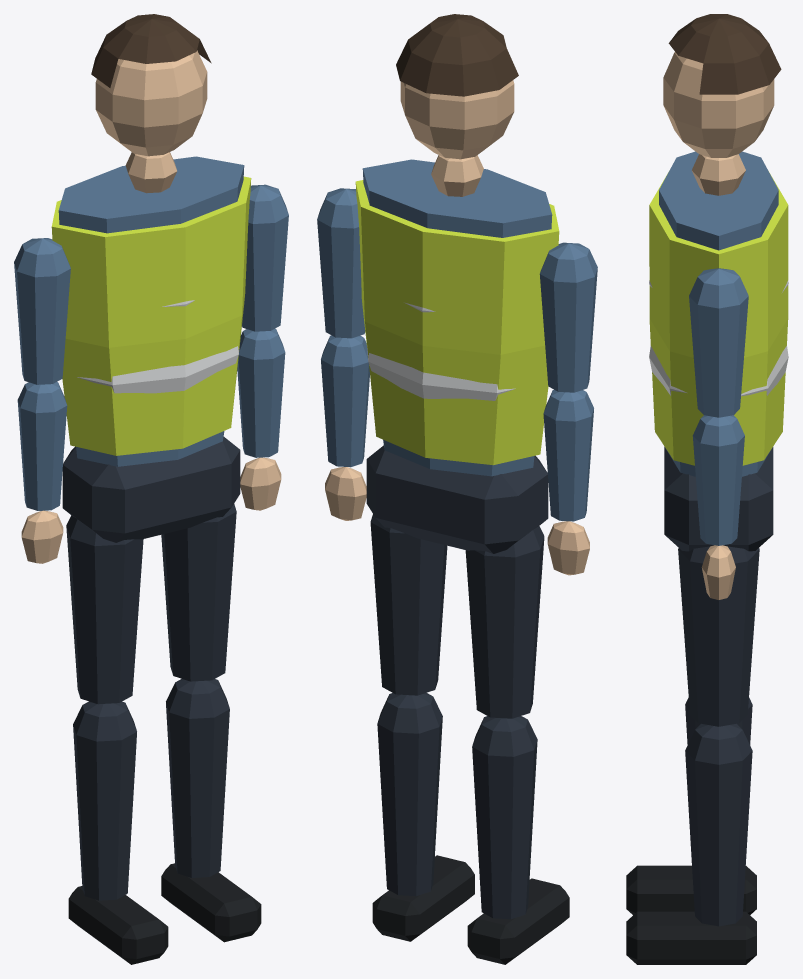
Rendered from person.glb.
The picture shows the model from 3 angles, left to right: view 1: azimuth 30°, elevation 25°; view 2: azimuth 150°, elevation 25°; view 3: azimuth 270°, elevation 25°; orthographic projection. The views are drawn at different scales.
Parts seen in each view (by area): view 1: Vest, Hofter, LarR, LeggL, LeggR, Kropp, LarL, Hode, OverarmR, OverarmL, UnderarmR, UnderarmL (+7 smaller); view 2: Vest, Hofter, LarR, LeggL, LeggR, Kropp, LarL, Har, OverarmR, Hode, OverarmL, UnderarmR (+7 smaller); view 3: Vest, LeggL, LarL, Kropp, OverarmL, Hode, SkoL, Har, UnderarmL, Hofter, SkoR, Hals (+3 smaller).
Boxes of the visible parts, x1,y1,x2,y2 form: Vest: [51, 176, 251, 455]; Hofter: [62, 437, 240, 542]; LarR: [66, 515, 143, 704]; LeggL: [166, 679, 229, 877]; LeggR: [73, 701, 136, 900]; Kropp: [58, 156, 244, 466]; LarL: [161, 503, 236, 681]; Hode: [95, 50, 207, 156]; OverarmR: [14, 238, 70, 384]; OverarmL: [242, 184, 288, 331]; UnderarmR: [17, 382, 67, 510]; UnderarmL: [237, 329, 285, 457]; Vest: [355, 180, 559, 465]; Hofter: [366, 445, 548, 553]; LarR: [465, 526, 544, 718]; LeggL: [377, 693, 442, 896]; LeggR: [472, 716, 537, 919]; Kropp: [362, 159, 552, 476]; LarL: [370, 514, 447, 695]; Har: [396, 14, 518, 96]; OverarmR: [539, 242, 597, 392]; Hode: [400, 80, 514, 159]; OverarmL: [317, 188, 365, 338]; UnderarmR: [543, 389, 593, 521]; Vest: [649, 172, 788, 465]; LeggL: [685, 723, 752, 926]; LarL: [678, 546, 759, 726]; Kropp: [659, 151, 778, 476]; OverarmL: [689, 268, 748, 417]; Hode: [663, 52, 774, 157]; SkoL: [626, 911, 756, 964]; Har: [668, 14, 781, 94]; UnderarmL: [692, 415, 744, 545]; Hofter: [664, 447, 773, 551]; SkoR: [626, 865, 756, 914]; Hals: [691, 154, 745, 195].
Size of the model in its own units: 0.58 by 1.86 by 0.2982.
